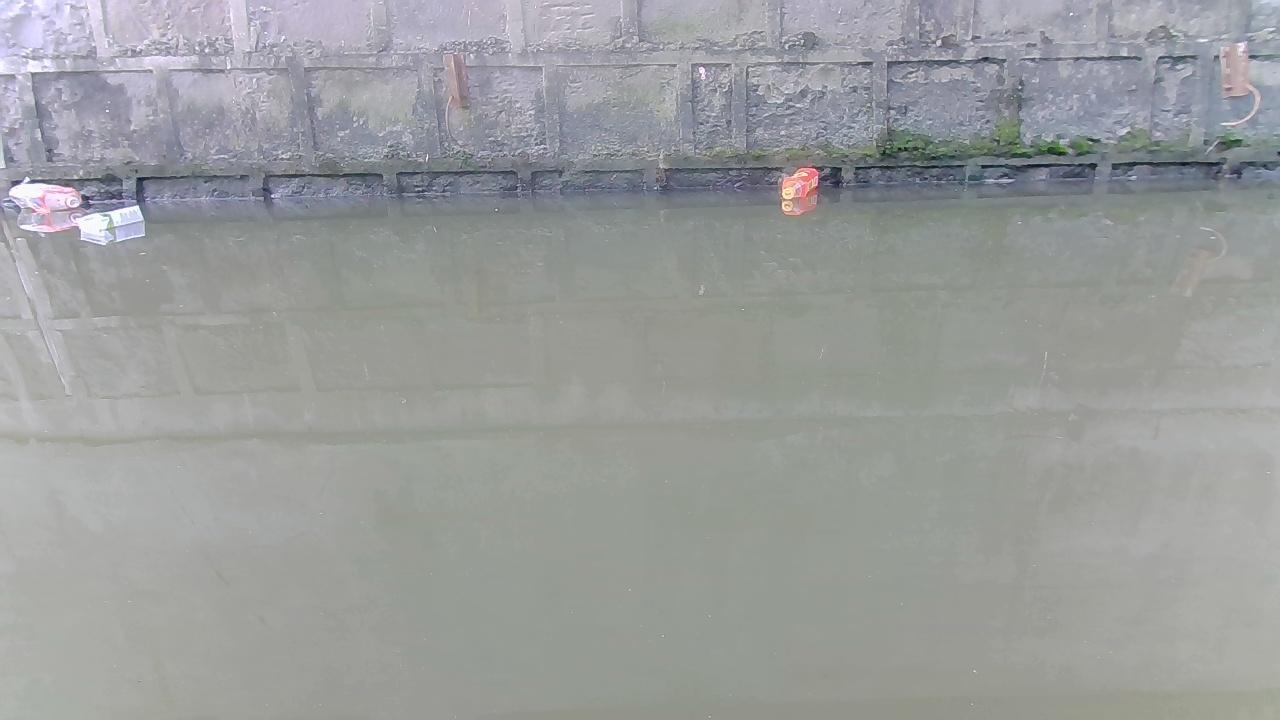bottle: (10, 181, 80, 213), (76, 205, 148, 235), (776, 167, 824, 202)
